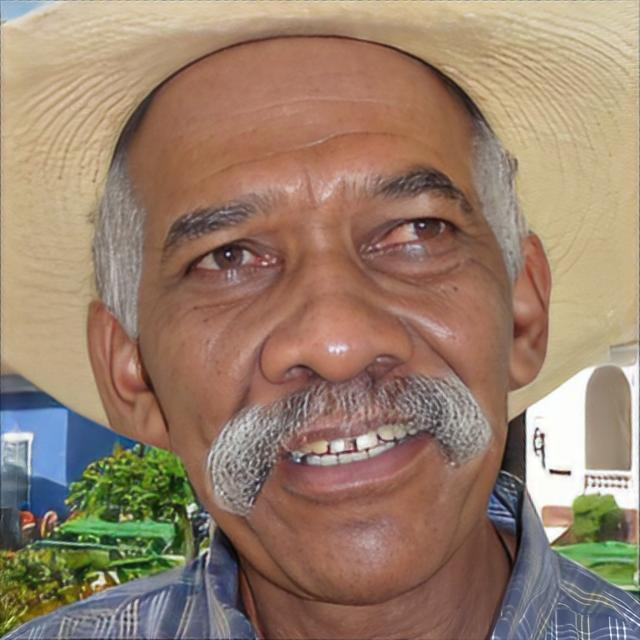disgust: (128, 32, 510, 609)
